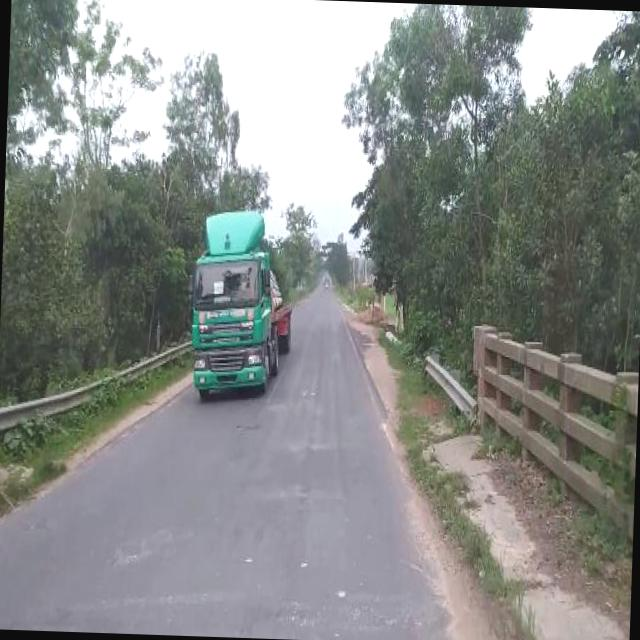truck: (189, 200, 297, 408)
